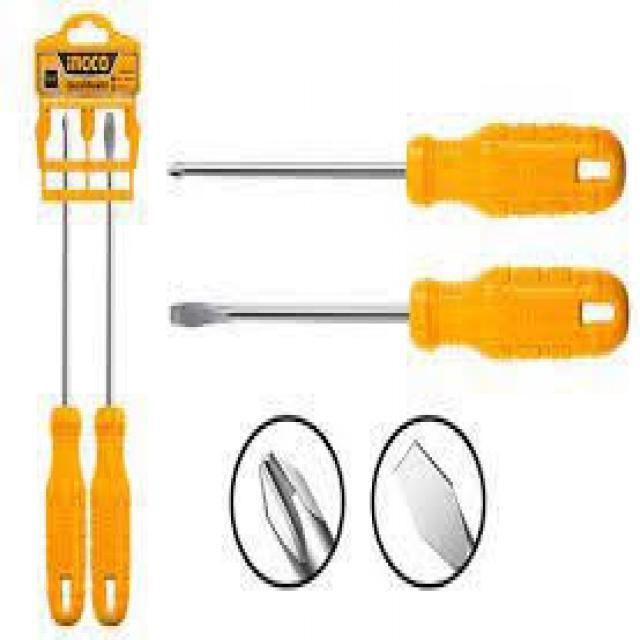screwdriver: (162, 121, 626, 220), (168, 265, 630, 364), (86, 107, 132, 631), (42, 107, 86, 628)
